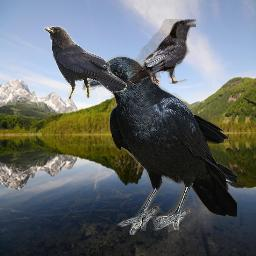Crow: (82, 55, 237, 235), (43, 26, 127, 99), (128, 19, 196, 84)
